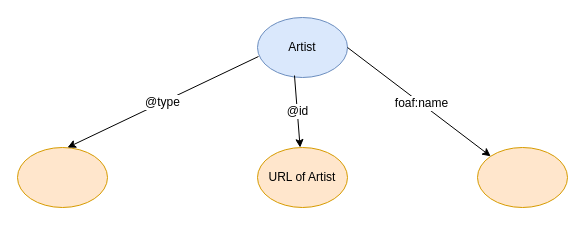
Image size: 585x225. Some labels were removed from this diagram. The shapes that lost their labels are listed below. From the top down, each one's centre as x and y in pixels, then its label:
pixel 62 177: mo:MusicArtist
pixel 522 177: Name of the Artist
